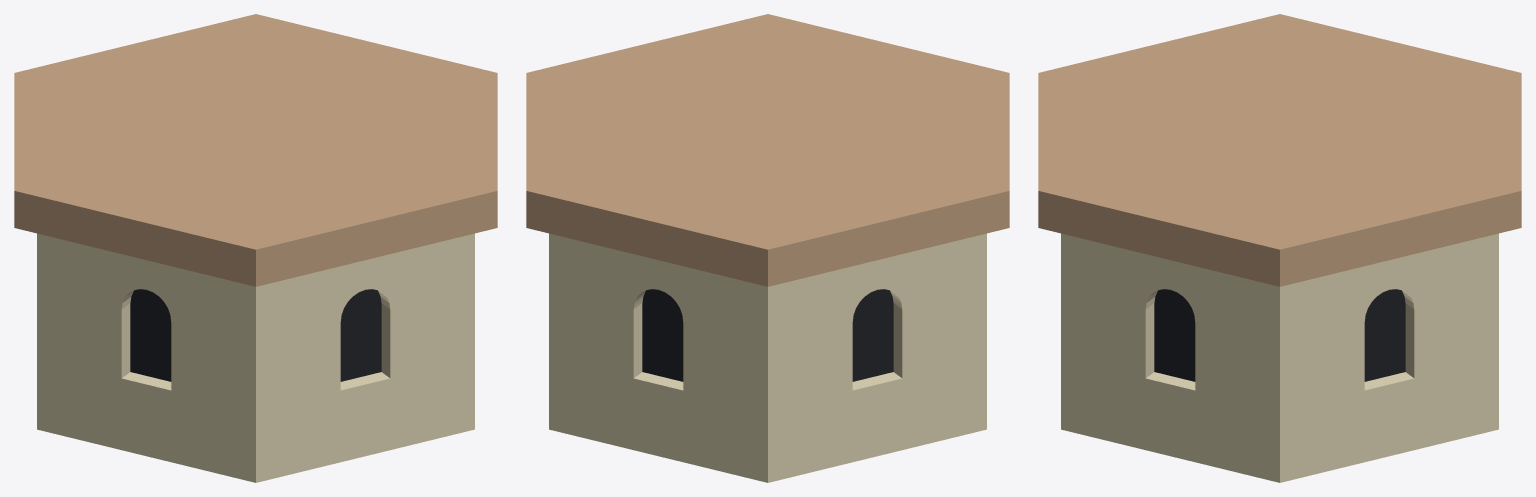
File: towerHexagonMid_exclusive.fbx
The picture shows the model from 3 angles, left to right: view 1: azimuth 30°, elevation 25°; view 2: azimuth 150°, elevation 25°; view 3: azimuth 270°, elevation 25°; orthographic projection.
Parts seen in each view (by area): view 1: towerHexagonMid_exclusive; view 2: towerHexagonMid_exclusive; view 3: towerHexagonMid_exclusive.
Boxes of the visible parts, <box> form: towerHexagonMid_exclusive: <box>14,14,497,482</box>; towerHexagonMid_exclusive: <box>526,14,1009,482</box>; towerHexagonMid_exclusive: <box>1038,14,1521,482</box>.
Bounding box in the file's own units: 9.52 × 4.6 × 8.25.
